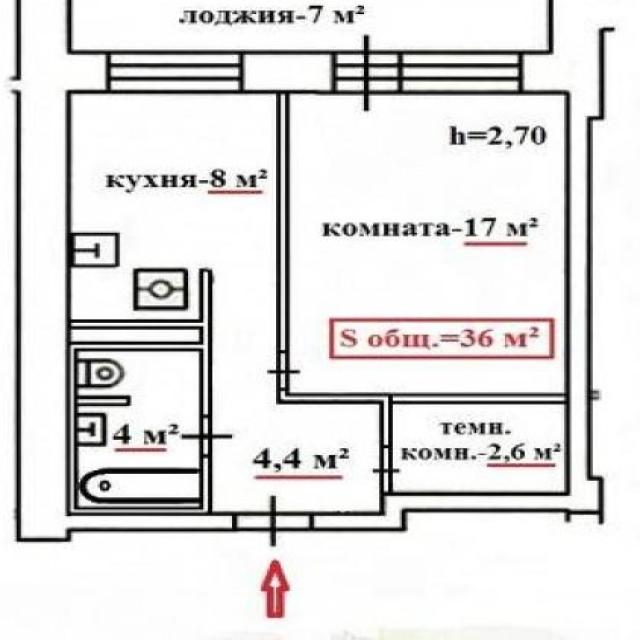Bathrooms: (76, 349, 201, 507)
Corridors: (212, 268, 379, 511), (71, 0, 549, 49)
Doors: (331, 31, 401, 114), (232, 494, 315, 550), (178, 414, 239, 457), (365, 446, 408, 493), (262, 350, 302, 389)
LBwalls: (311, 0, 617, 532), (16, 0, 234, 544), (241, 50, 334, 94)
Offices: (290, 95, 565, 392), (70, 92, 276, 320), (393, 405, 566, 494)
Walls: (68, 266, 212, 515), (275, 388, 567, 447), (275, 93, 289, 351), (201, 455, 212, 515), (77, 395, 132, 406), (9, 77, 20, 93), (591, 391, 602, 402)
Windows: (107, 50, 244, 93), (400, 50, 521, 95)
